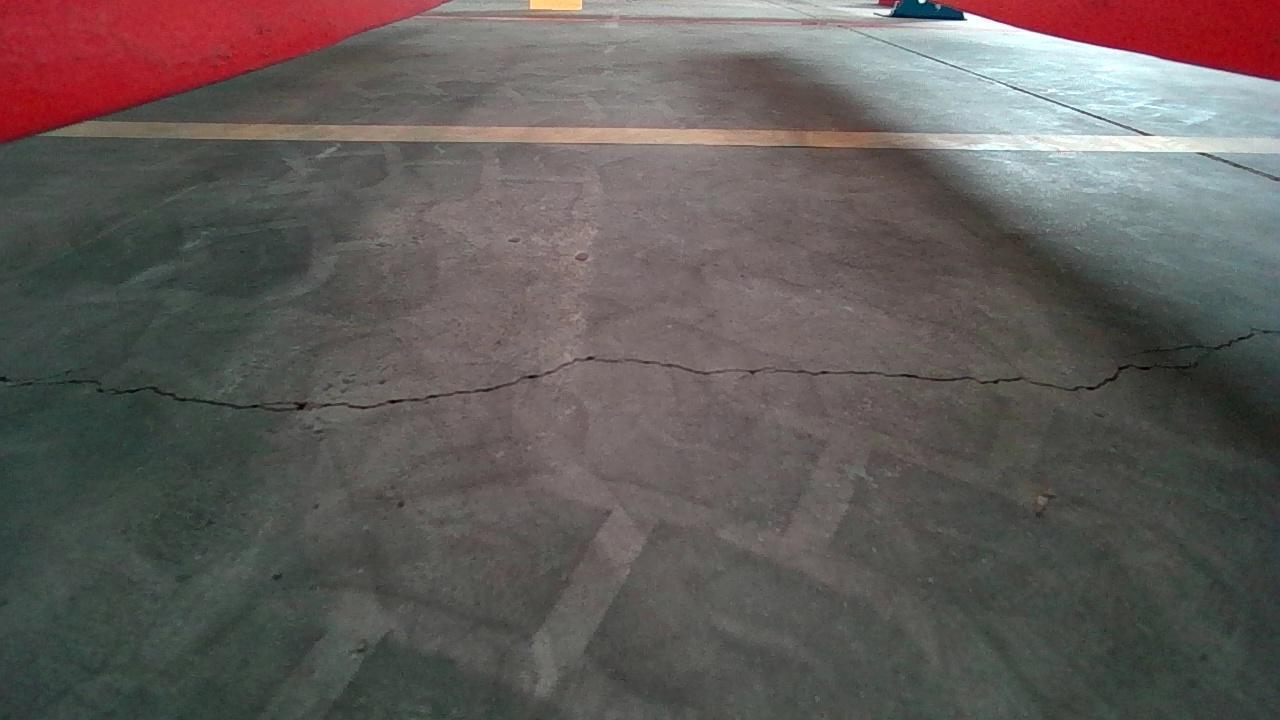yellow_line: (38, 115, 1280, 154)
